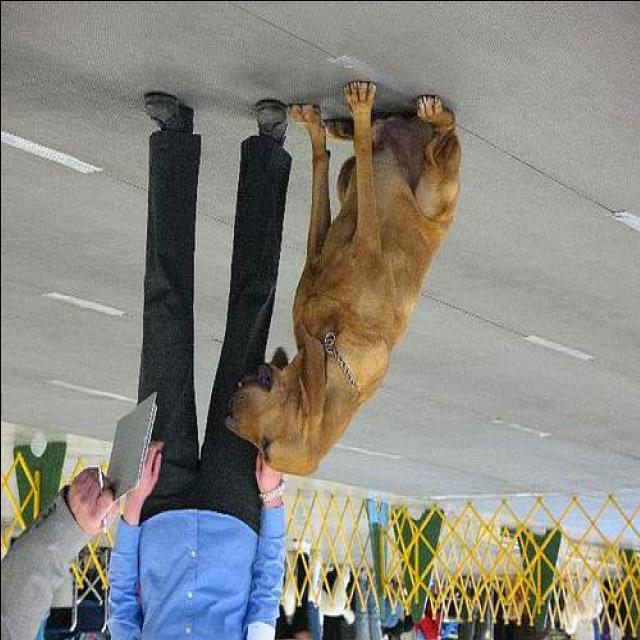bloodhound: (214, 80, 461, 483)
